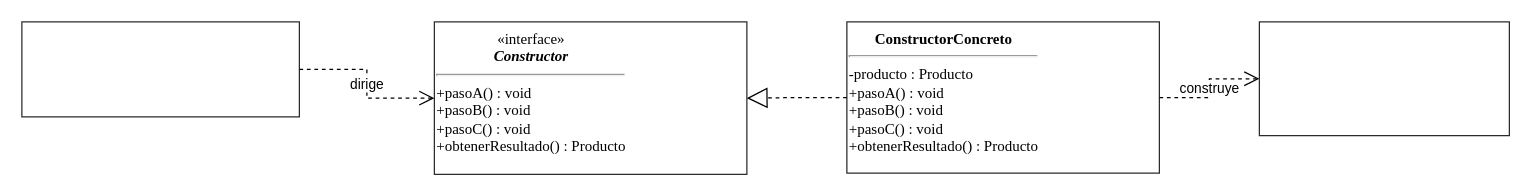
This 1531x196 diagram has some shape labels left out. Here are the shapes that lost their labels. From the top down, the centre of each, then its label:
point (160, 69): Director -constructor : Constructor +construir() : void
point (1383, 78): Producto -parteA : string -parteB : string -parteC : string
